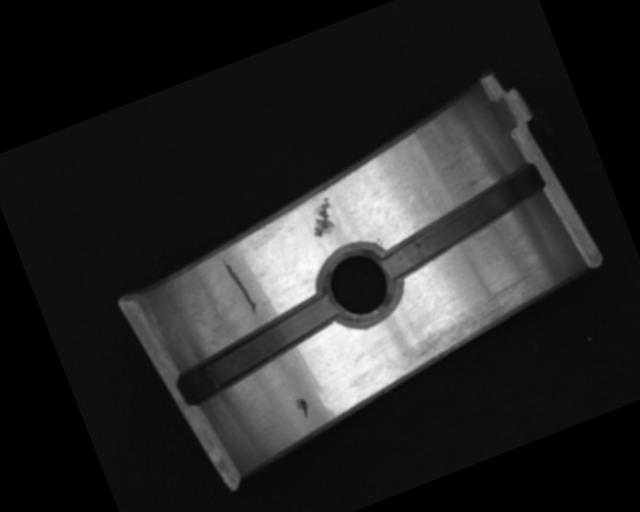bruise: (302, 195, 344, 240), (293, 395, 312, 421)
gap: (368, 162, 558, 283), (167, 293, 348, 406)
hole: (310, 237, 411, 339)
nick: (220, 252, 258, 319)
scratch: (383, 277, 542, 377)
